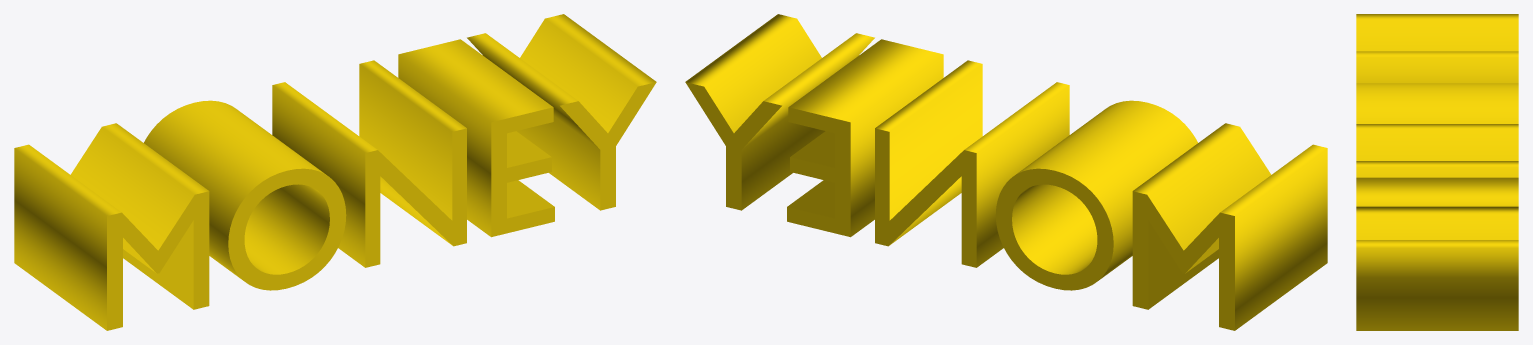
File: Greed2.fbx
The picture shows the model from 3 angles, left to right: view 1: azimuth 30°, elevation 25°; view 2: azimuth 150°, elevation 25°; view 3: azimuth 270°, elevation 25°; orthographic projection. The views are drawn at different scales.
Parts seen in each view (by area): view 1: Text; view 2: Text; view 3: Text.
Part boxes in pixels (<box>): Text: <box>14,14,656,330</box>; Text: <box>685,14,1327,330</box>; Text: <box>1356,14,1518,330</box>.
Size of the model in its own units: 342 by 70 by 100.
